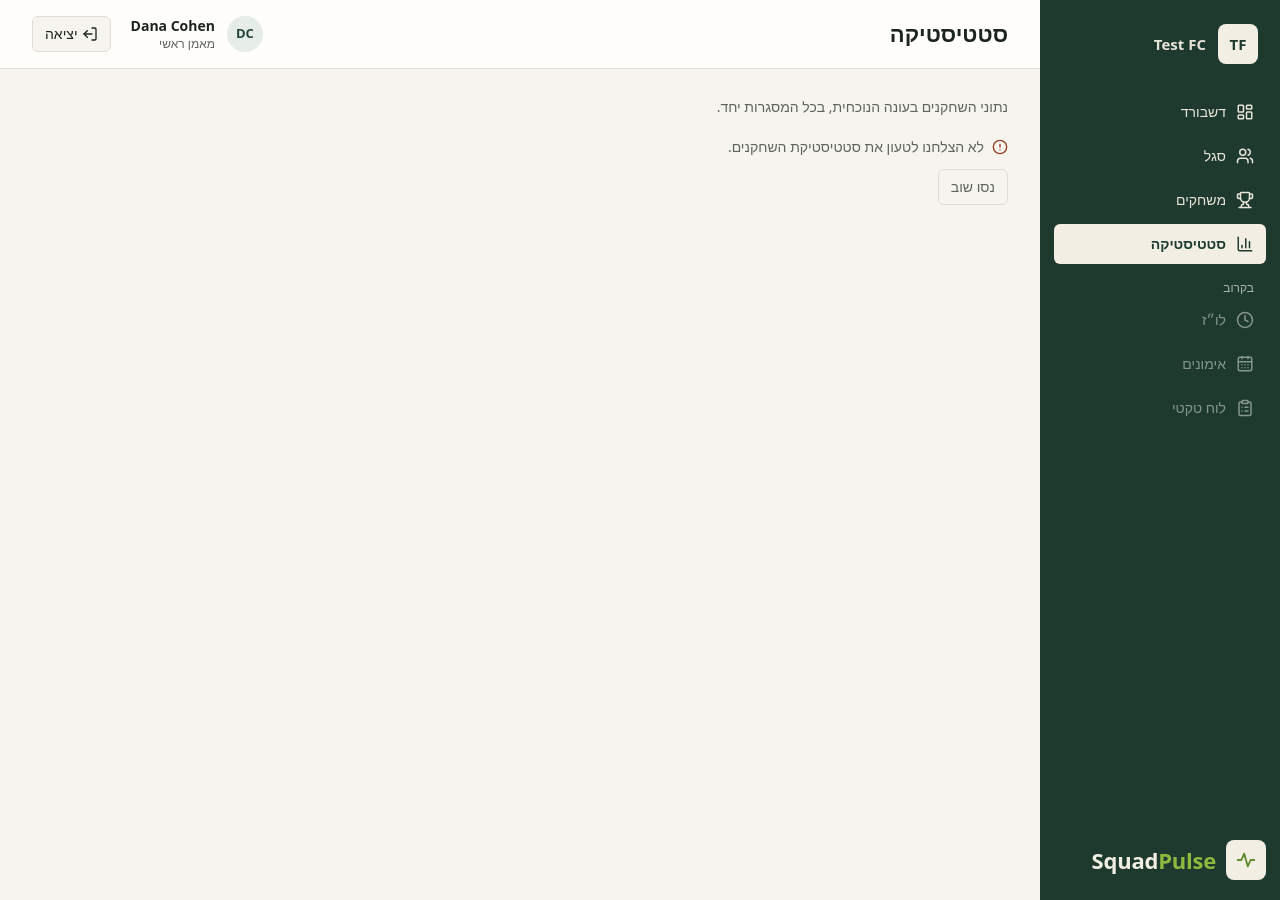
it: the stats screen's states › shows a read error with a retry that loads the table
The width and height of the screenshot is (1280, 900).
Expected: the heading "סטטיסטיקה" is shown, 890,20 -> 1008,48
Expected: the text "לא הצלחנו לטעון את סטטיסטיקת השחקנים." is shown, 728,137 -> 1008,157
Click the button "נסו שוב".
click(973, 187)  # box 938,169 -> 1008,205
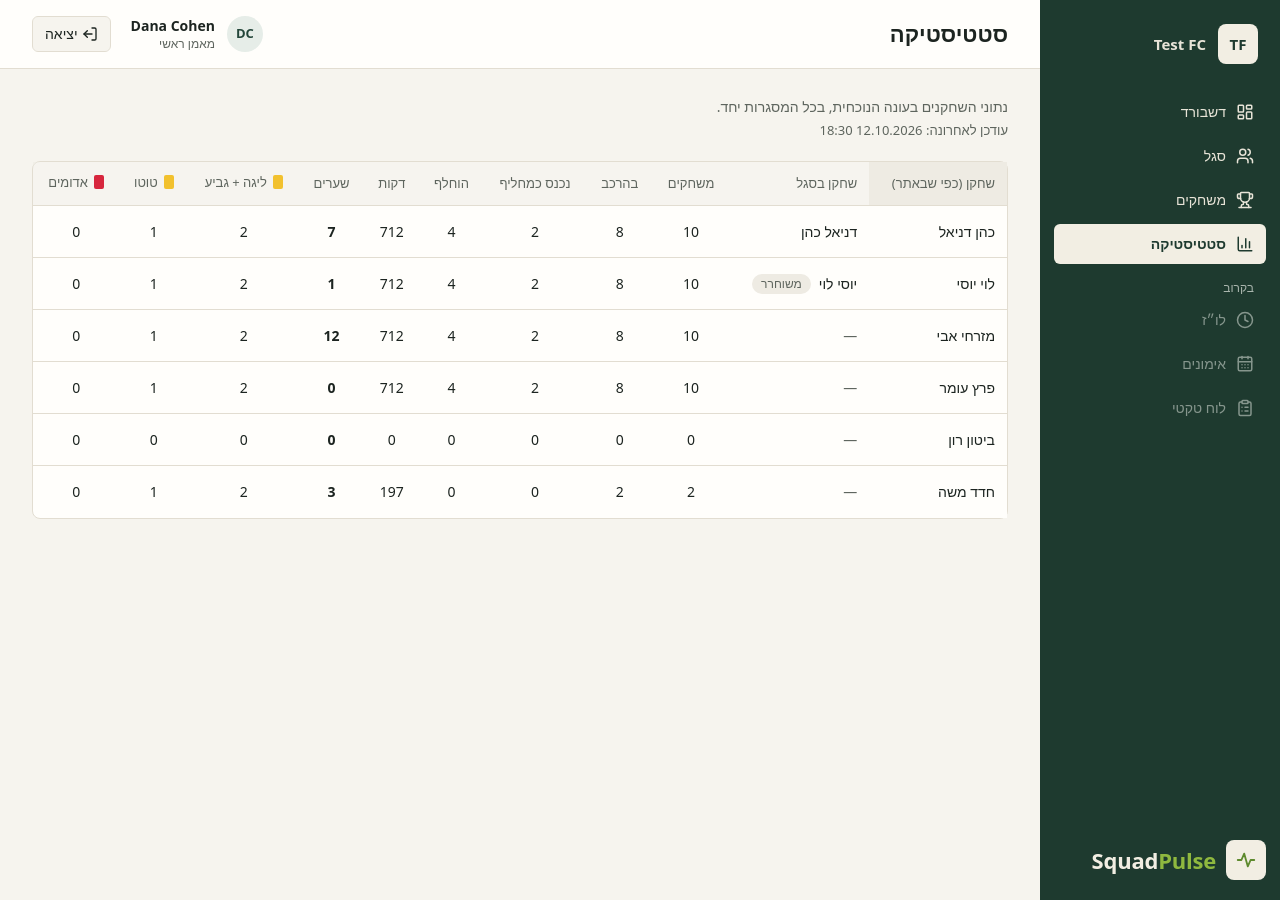
Result: the table named "סטטיסטיקת שחקנים" is shown at 33,162 -> 1007,518
